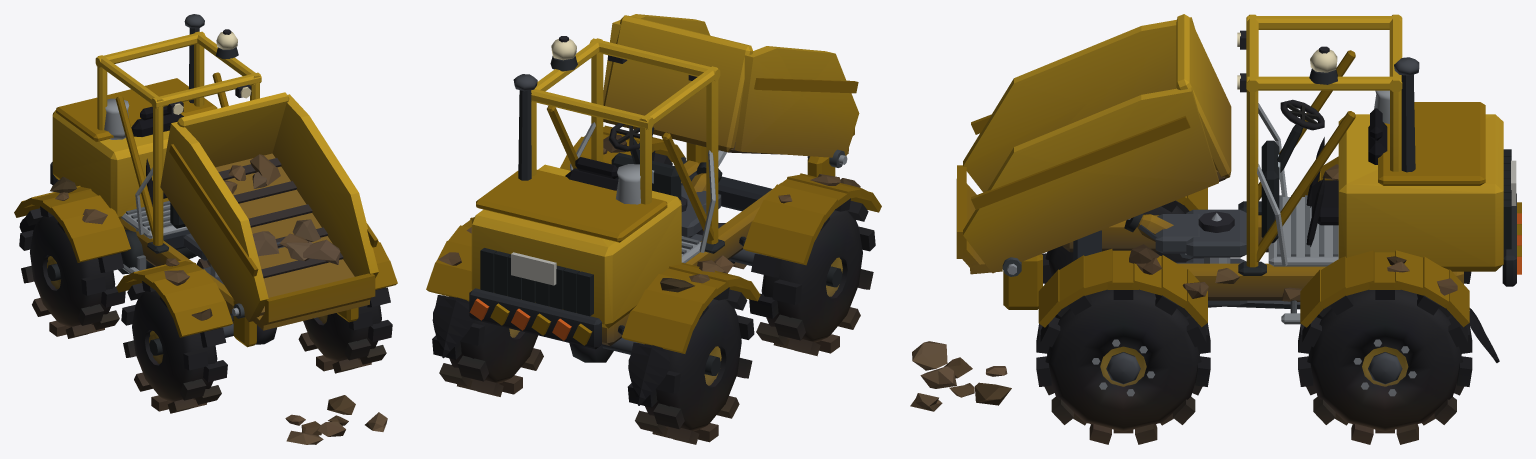
The model's file is dump-truck.glb.
3 views of the same model, side by side, from view 1: azimuth 30°, elevation 25°; view 2: azimuth 150°, elevation 25°; view 3: azimuth 270°, elevation 25° (orthographic). The views are drawn at different scales.
Visible parts, largest first — view 1: dump_truck; view 2: dump_truck; view 3: dump_truck.
Part boxes in pixels (x1=…): dump_truck: x1=14, y1=14, x2=397, y2=444; dump_truck: x1=426, y1=14, x2=881, y2=444; dump_truck: x1=910, y1=14, x2=1521, y2=444.
Size of the model in its own units: 1.79 by 2.24 by 3.41.
